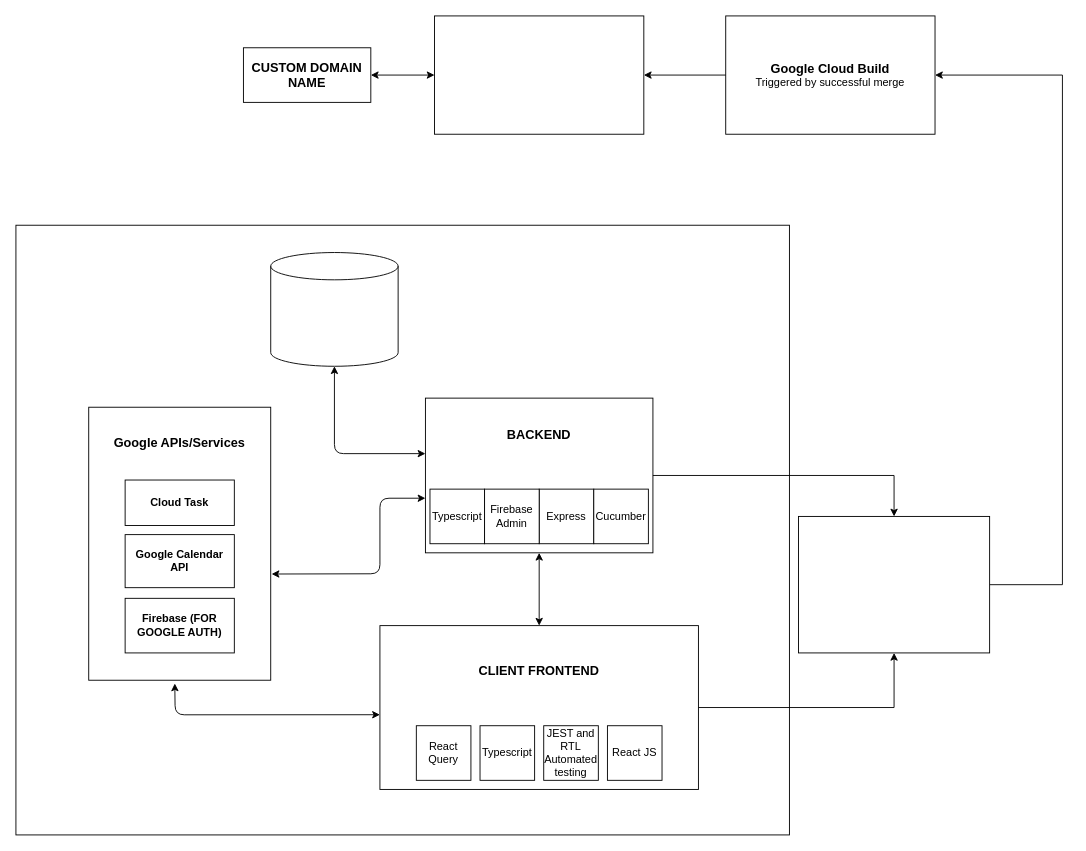
This 1086x851 diagram has some shape labels left out. Here are the shapes that lost their labels. From the top down, the centre of each, then its label:
At (539,74): "APP ENGINE".
At (334,309): "Externally-hosted MYSQL Server".
At (894,584): "GITHUB with ACTIONS run Cucumber and JEST/RTL automated tests".
